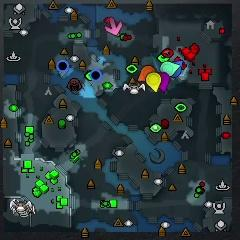p1: (169, 60, 183, 77)
p1Clone: (90, 69, 102, 83), (56, 60, 69, 72)
p2: (160, 61, 180, 75)
p3: (158, 72, 170, 92)
p4: (146, 72, 162, 92)
p5: (138, 66, 157, 82)
x1: (105, 18, 122, 36)
